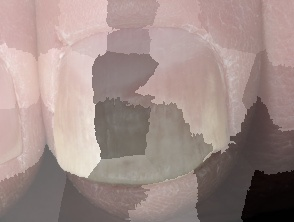Nail_psoriasis: (40, 6, 256, 220), (0, 14, 36, 183)
